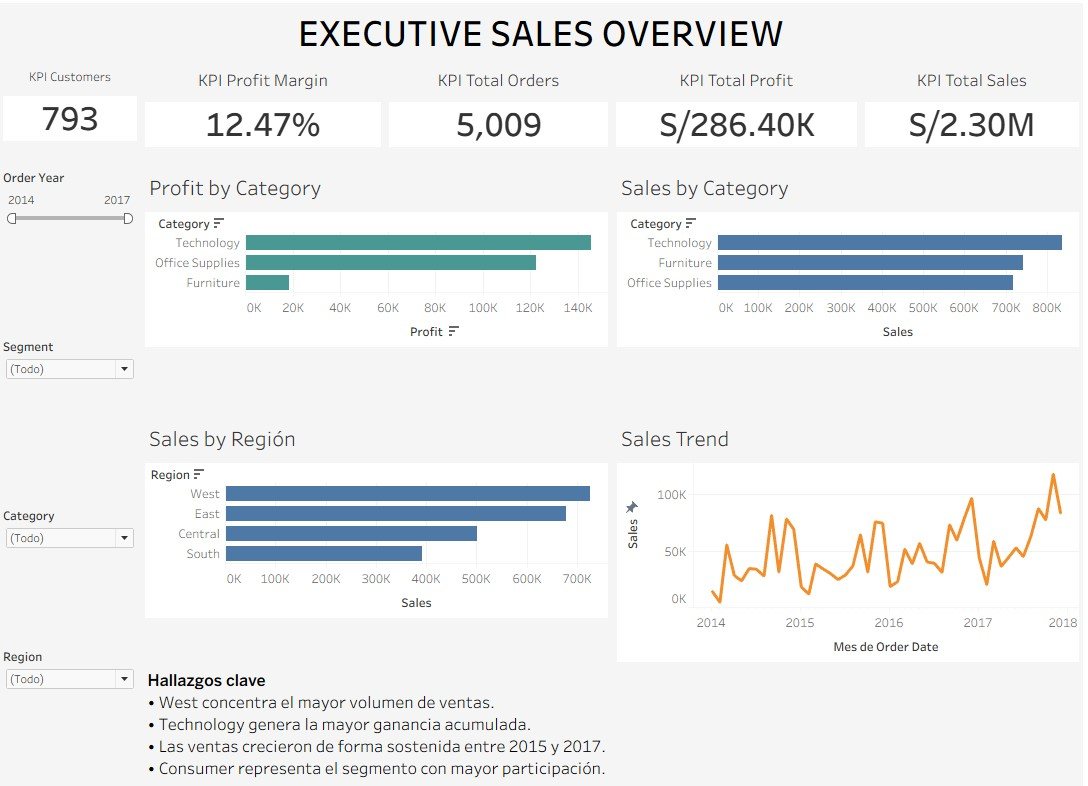

The dashboard page shown, as its layout file describes it:
{"tool":"tableau","page":{"name":"DB Executive Sales Overview","canvas":[1000,1000],"units":"permille","ordinal":1},"visuals":[{"type":"text","box":[7.3,10,985.5,71.2]},{"type":"worksheet","title":"KPI Customers","mark":"Automatic","box":[7.3,81.2,129.3,131.2]},{"type":"worksheet","title":"KPI Profit Margin","mark":"Automatic","box":[136.6,81.2,221.6,131.2]},{"type":"worksheet","title":"KPI Total Orders","mark":"Automatic","box":[358.2,81.2,206.4,131.2]},{"type":"worksheet","title":"KPI Total Profit","mark":"Automatic","box":[564.7,81.2,226.4,131.2]},{"type":"worksheet","title":"KPI Total Sales","mark":"Automatic","box":[791,81.2,201.7,131.2]},{"type":"filter","title":"Profit by Category","param":"[federated.03u7p7c1u7dit71fptpzm1i9p30b].[none:Order_Year:qk]","box":[7.3,212.5,129.3,211.1]},{"type":"worksheet","title":"Profit by Category","mark":"Automatic","rows":["Category"],"cols":["Profit"],"box":[136.6,212.5,428.4,314.2]},{"type":"worksheet","title":"Sales by Category","mark":"Automatic","rows":["Category"],"cols":["Sales"],"box":[565,212.5,427.7,314.2]},{"type":"filter","title":"Profit by Category","param":"[federated.03u7p7c1u7dit71fptpzm1i9p30b].[none:Segment:nk]","box":[7.3,423.6,129.3,211.1]},{"type":"worksheet","title":"Sales by Región","mark":"Automatic","rows":["Region"],"cols":["Sales"],"box":[136.6,526.7,428.5,313.1]},{"type":"worksheet","title":"Sales Trend","mark":"Automatic","rows":["Sales"],"cols":["Order_Date"],"box":[565.1,526.7,427.6,313.1]},{"type":"filter","title":"Profit by Category","param":"[federated.03u7p7c1u7dit71fptpzm1i9p30b].[none:Category:nk]","box":[7.3,635,129.1,176.2]},{"type":"filter","title":"Profit by Category","param":"[federated.03u7p7c1u7dit71fptpzm1i9p30b].[none:Region:nk]","box":[7.3,811.2,129.3,178.8]},{"type":"text","box":[136.6,839.8,856.1,150.2]}]}

Visuals, with their boxes on the dashboard's canvas, which has no fixed pixel size, in thousandths of its width and height (x1, y1, x2, y2). These are canvas units, not pixel positions in the 1088x786 screenshot, which may show the page scaled, cropped or inside an application window:
text: bbox=(7, 10, 993, 81)
"KPI Customers" worksheet: bbox=(7, 81, 137, 212)
"KPI Profit Margin" worksheet: bbox=(137, 81, 358, 212)
"KPI Total Orders" worksheet: bbox=(358, 81, 565, 212)
"KPI Total Profit" worksheet: bbox=(565, 81, 791, 212)
"KPI Total Sales" worksheet: bbox=(791, 81, 993, 212)
"Profit by Category" filter: bbox=(7, 212, 137, 424)
"Profit by Category" worksheet: bbox=(137, 212, 565, 527)
"Sales by Category" worksheet: bbox=(565, 212, 993, 527)
"Profit by Category" filter: bbox=(7, 424, 137, 635)
"Sales by Región" worksheet: bbox=(137, 527, 565, 840)
"Sales Trend" worksheet: bbox=(565, 527, 993, 840)
"Profit by Category" filter: bbox=(7, 635, 136, 811)
"Profit by Category" filter: bbox=(7, 811, 137, 990)
text: bbox=(137, 840, 993, 990)
